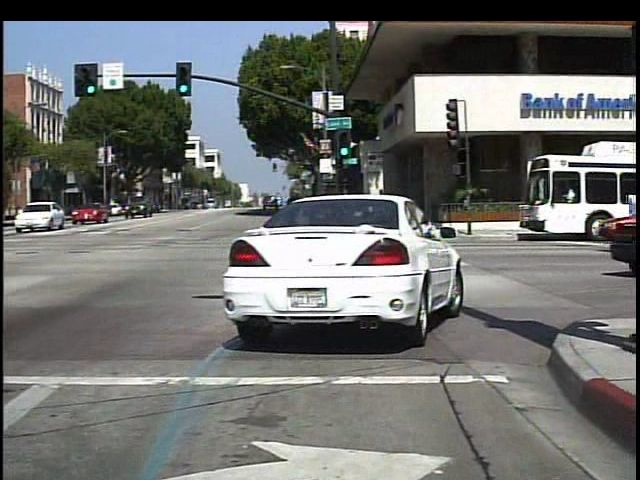person: (372, 182, 391, 223)
